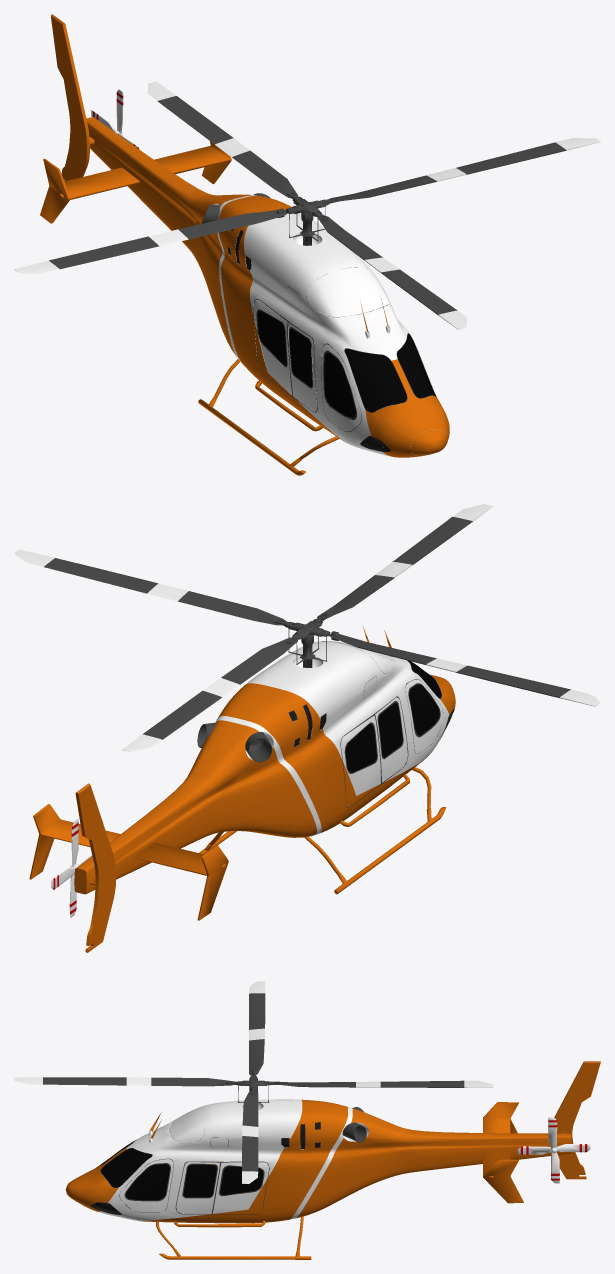
File: heli_bell429.glb
3 renders of one model, top to bottom at view 1: azimuth 30°, elevation 25°; view 2: azimuth 150°, elevation 25°; view 3: azimuth 270°, elevation 25°, orthographic. The views are drawn at different scales.
Parts seen in each view (by area): view 1: Object_4, Object_5, Object_7, Object_2, Object_9, Object_3, Object_6; view 2: Object_4, Object_7, Object_5, Object_2, Object_9, Object_6, Object_3; view 3: Object_4, Object_5, Object_7, Object_2, Object_9, Object_3, Object_6.
Part boxes in pixels (box(x1,y1,x2,y2)): Object_4: box(86, 117, 449, 457); Object_5: box(217, 195, 432, 456); Object_7: box(14, 81, 600, 455); Object_2: box(40, 14, 416, 436); Object_9: box(257, 310, 436, 418); Object_3: box(254, 299, 436, 431); Object_6: box(64, 130, 339, 475); Object_4: box(74, 675, 455, 894); Object_7: box(14, 504, 600, 917); Object_5: box(215, 621, 449, 834); Object_2: box(29, 613, 408, 952); Object_9: box(294, 660, 441, 772); Object_6: box(70, 624, 445, 949); Object_3: box(311, 660, 443, 795); Object_4: box(65, 1099, 571, 1223); Object_5: box(98, 1077, 352, 1220); Object_7: box(14, 981, 590, 1227); Object_2: box(169, 1061, 600, 1214); Object_9: box(101, 1140, 263, 1200); Object_3: box(100, 1142, 268, 1213); Object_6: box(156, 1079, 586, 1259).
Bounding box in the file's own units: 22.35 × 8.66 × 27.37.
2 materials, 1 textured.
